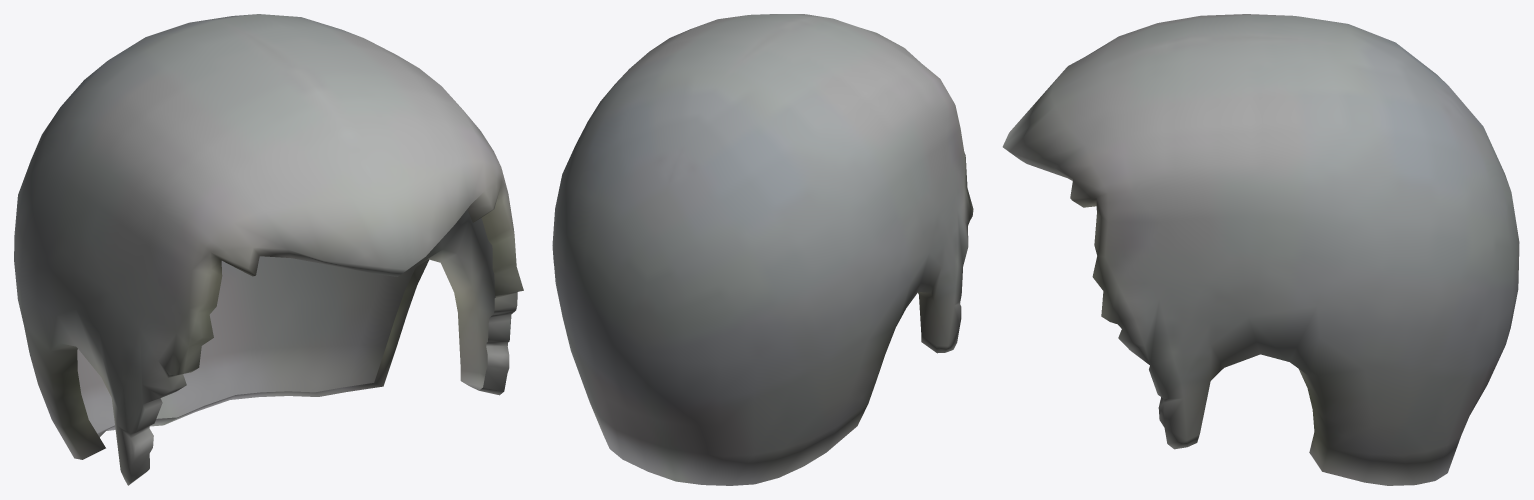
The model's file is Hair_Buzzed.glb.
3 views of the same model, side by side, from view 1: azimuth 30°, elevation 25°; view 2: azimuth 150°, elevation 25°; view 3: azimuth 270°, elevation 25° (orthographic). The views are drawn at different scales.
Parts seen in each view (by area): view 1: Hair_Buzzed; view 2: Hair_Buzzed; view 3: Hair_Buzzed.
Boxes of the visible parts, bbox=[...] form: Hair_Buzzed: bbox=[14, 14, 523, 485]; Hair_Buzzed: bbox=[552, 14, 973, 485]; Hair_Buzzed: bbox=[1002, 14, 1519, 485].
Size of the model in its own units: 0.1546 by 0.1694 by 0.1909.
1 material, 1 textured.
